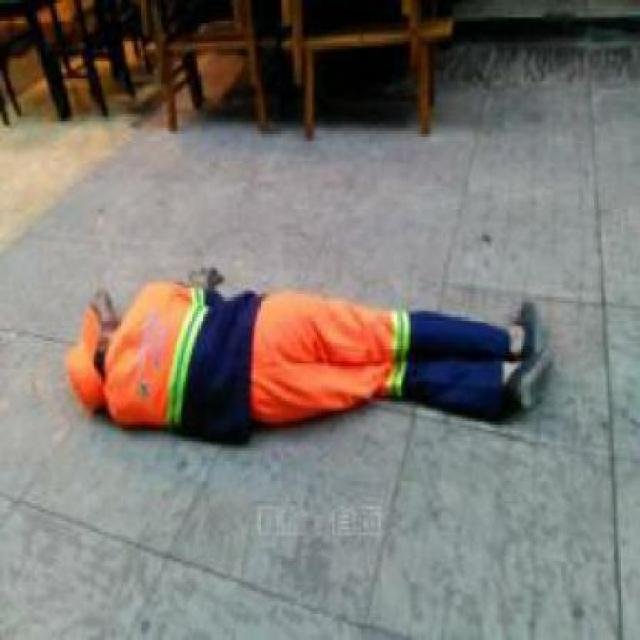fall: (61, 242, 554, 450)
